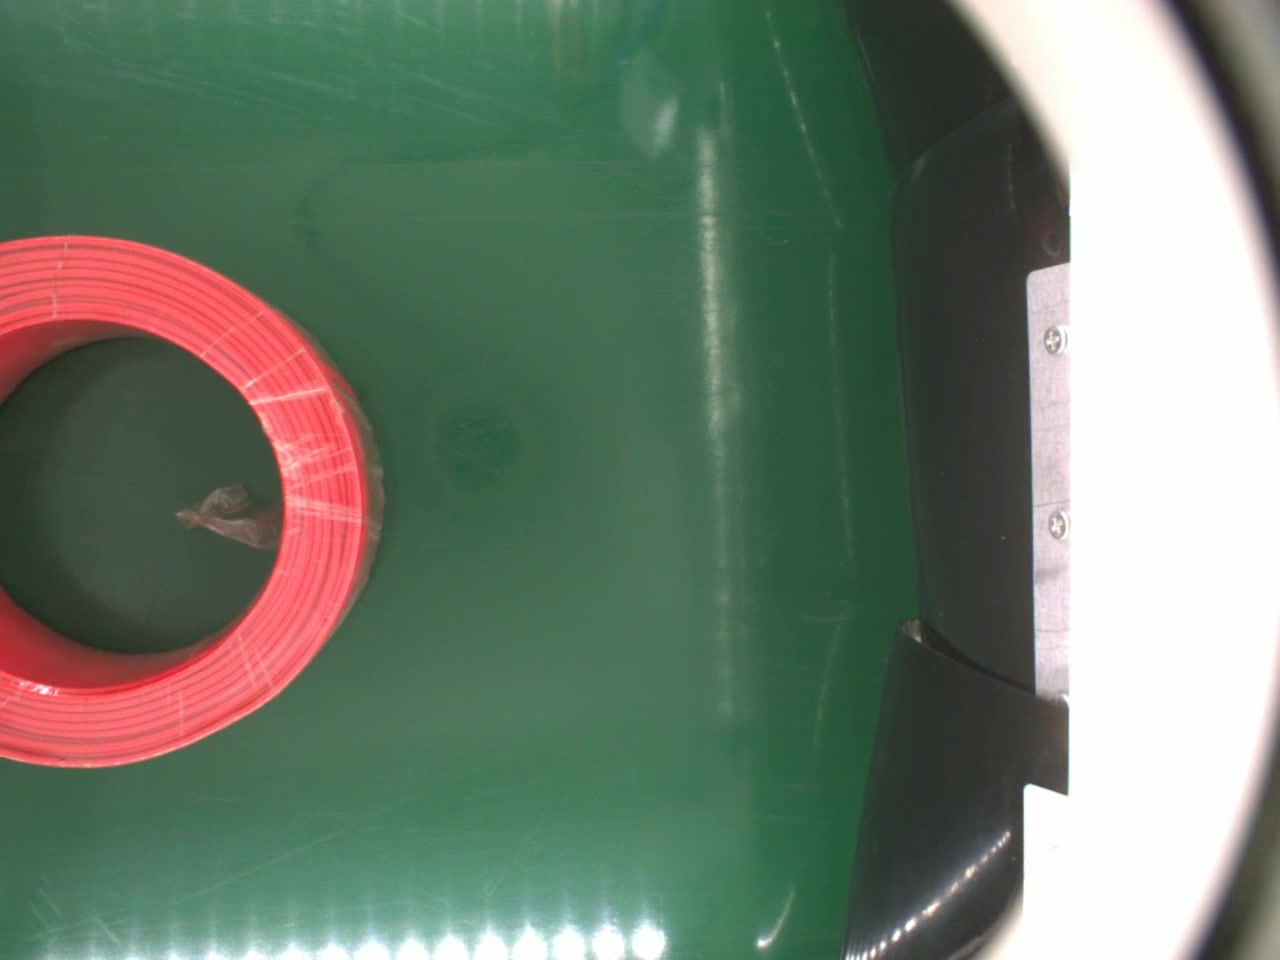red: (0, 231, 389, 769)
